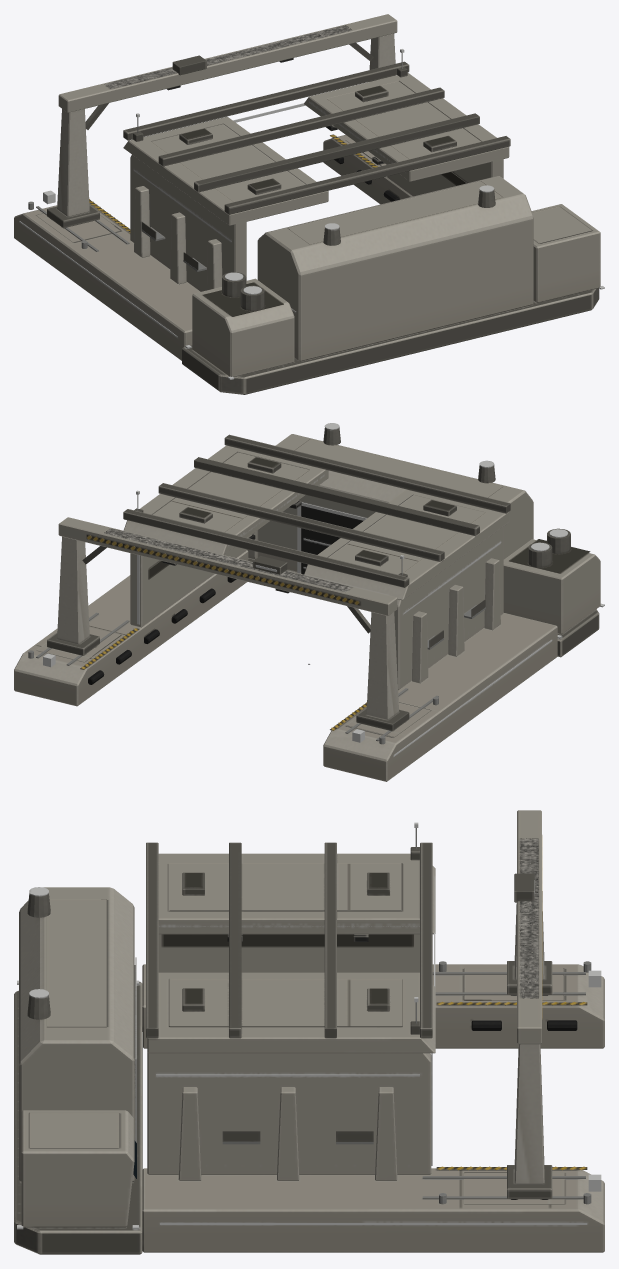
Rendered from ord_advshipyard.fbx.
3 renders of one model, top to bottom at view 1: azimuth 30°, elevation 25°; view 2: azimuth 150°, elevation 25°; view 3: azimuth 270°, elevation 25°, orthographic. The views are drawn at different scales.
Visible parts, largest first — view 1: base_bar, gantry_bar, base_glow_running_bar, base_glow_power_bar; view 2: base_bar, gantry_bar, base_glow_power_bar, base_glow_running_bar; view 3: base_bar, gantry_bar, base_glow_running_bar, base_glow_power_bar.
Part boxes in pixels (x1,y1,x2,y2): base_bar: [14, 53, 600, 394]; gantry_bar: [47, 14, 397, 228]; base_glow_running_bar: [19, 49, 604, 379]; base_glow_power_bar: [225, 103, 494, 294]; base_bar: [14, 427, 600, 781]; gantry_bar: [47, 517, 409, 731]; base_glow_power_bar: [137, 423, 568, 624]; base_glow_running_bar: [43, 490, 604, 756]; base_bar: [14, 828, 604, 1254]; gantry_bar: [507, 810, 552, 1199]; base_glow_running_bar: [17, 822, 601, 1229]; base_glow_power_bar: [29, 876, 435, 1165].
Bounding box in the file's own units: 4720 × 2020 × 4700.
Materials: 2 (2 with a texture image).
